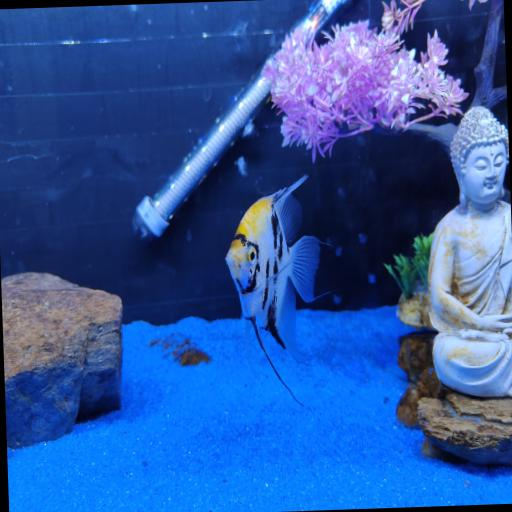Fish: (226, 176, 320, 400)
